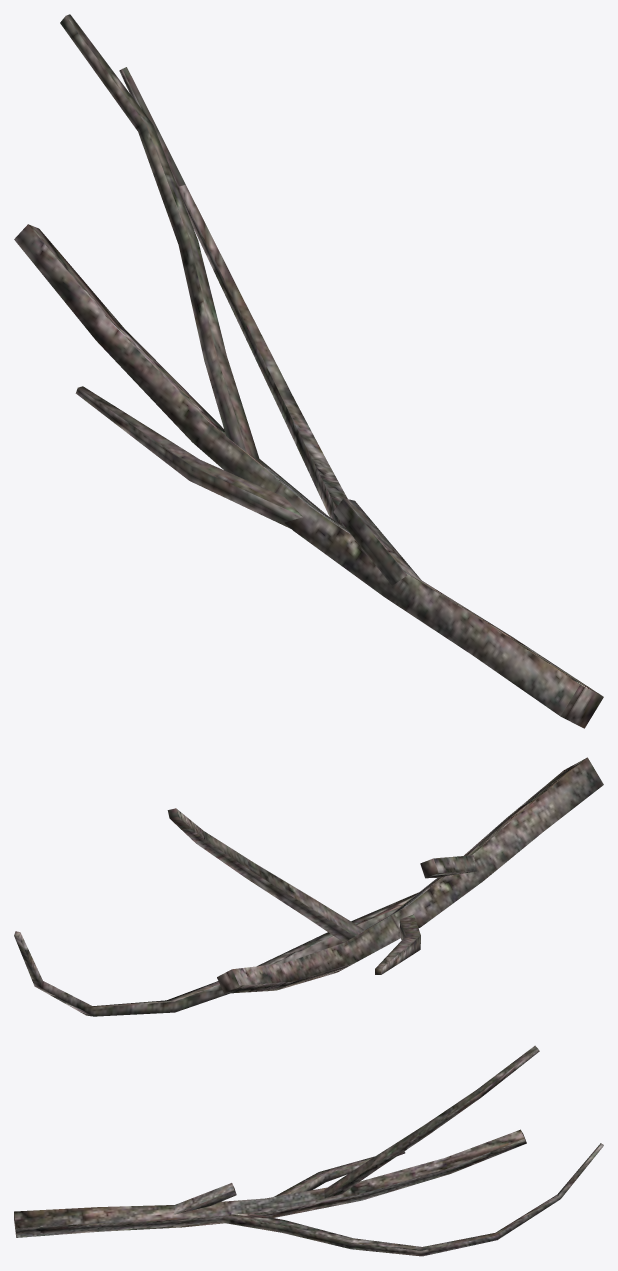
Rendered from stick.dae.
The picture shows the model from 3 angles, top to bottom: view 1: azimuth 30°, elevation 25°; view 2: azimuth 150°, elevation 25°; view 3: azimuth 270°, elevation 25°; orthographic projection. The views are drawn at different scales.
Parts seen in each view (by area): view 1: mesh; view 2: mesh; view 3: mesh.
Part boxes in pixels (x1,y1,x2,y2): mesh: (14, 14, 603, 728); mesh: (14, 757, 603, 1016); mesh: (14, 1045, 603, 1256).
Size of what is drawn, in the model's own units: 0.4173 by 1.59 by 0.5538.
1 material, 1 textured.
